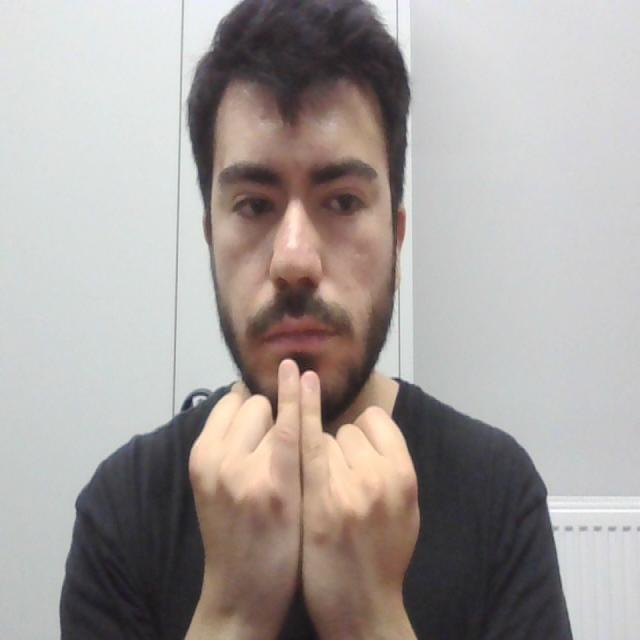Kardes: (178, 352, 423, 640)
